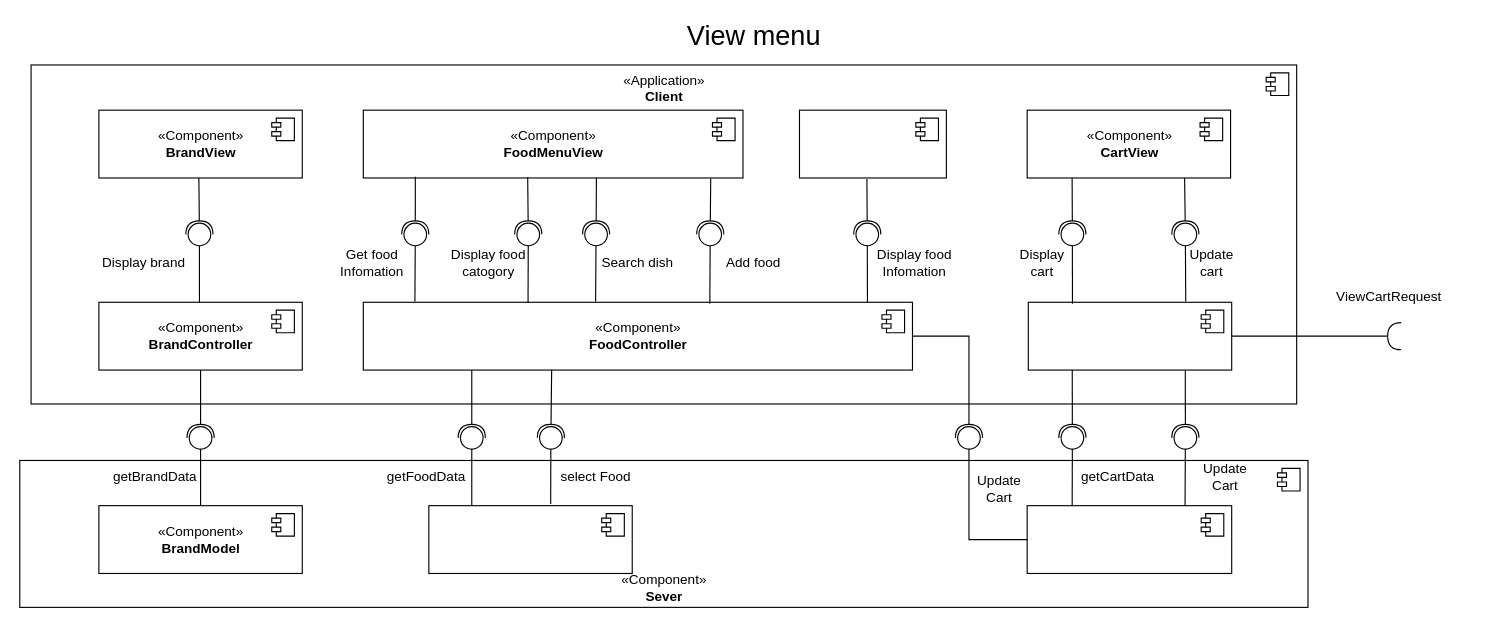
Some shapes in this 1487 by 627 pixel diagram are drawn without their labels. Here are the shapes that lost their labels. From the top down, the centre of each, then its label:
At [872,143]: "«Component» FoodView".
At [1129,335]: "«Component» CartController".
At [530,539]: "«Component» FoodModel".
At [1129,539]: "«Component» CartModel".
